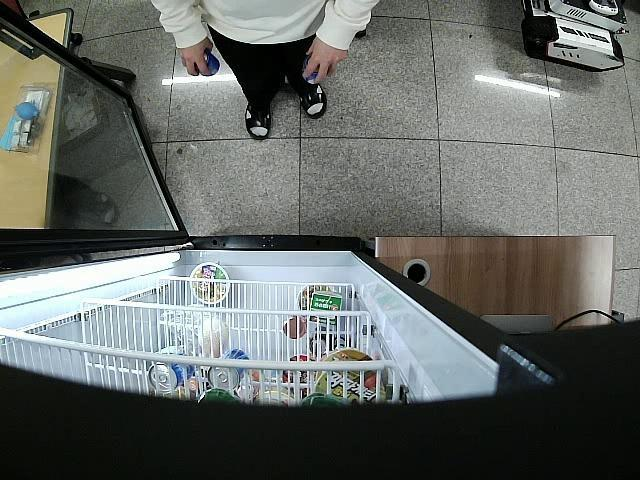13_pocariSweat: (196, 52, 220, 76), (302, 57, 321, 84)
